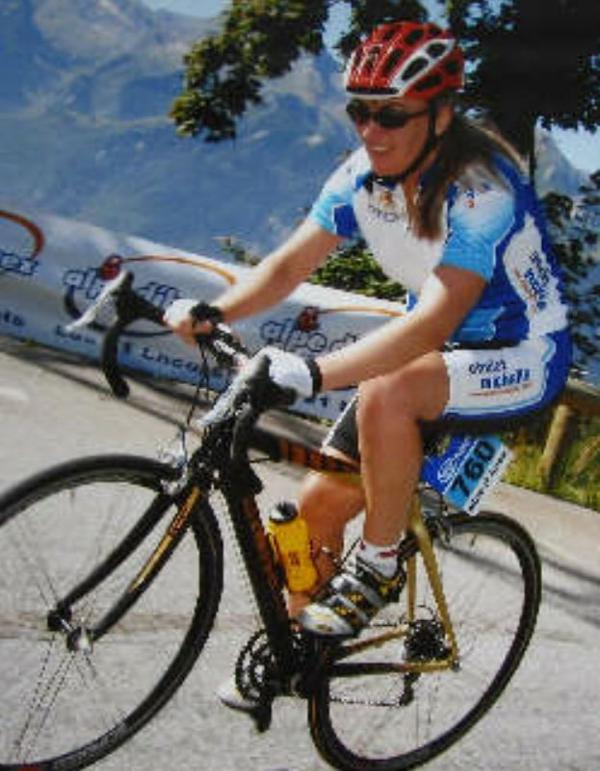person: (165, 19, 572, 712)
